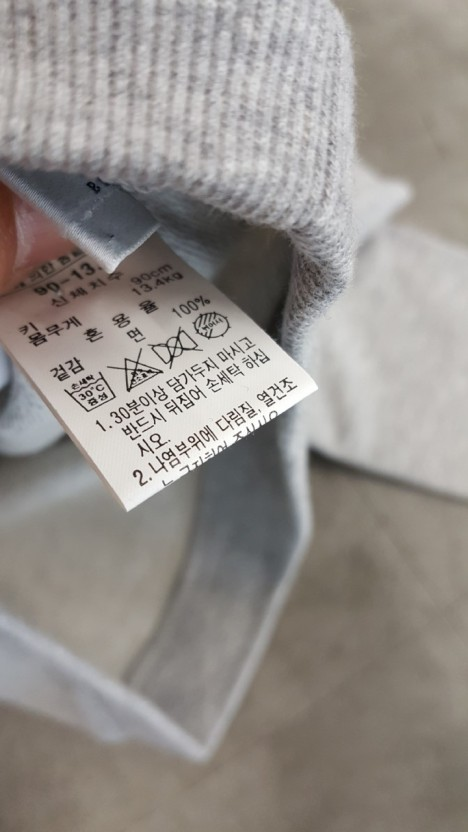KR_flat_dry_in_shade: (186, 301, 240, 348)
KR_hand_wash_30_neutral: (57, 359, 125, 422)
KR_no_bleach: (105, 342, 172, 399)
KR_no_wring: (145, 322, 204, 374)
